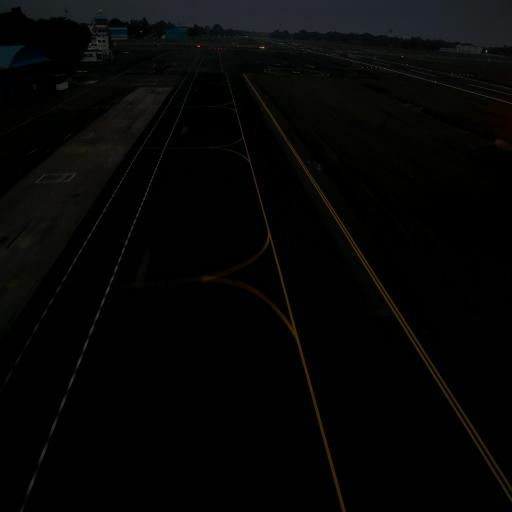on: (317, 162, 322, 169)
